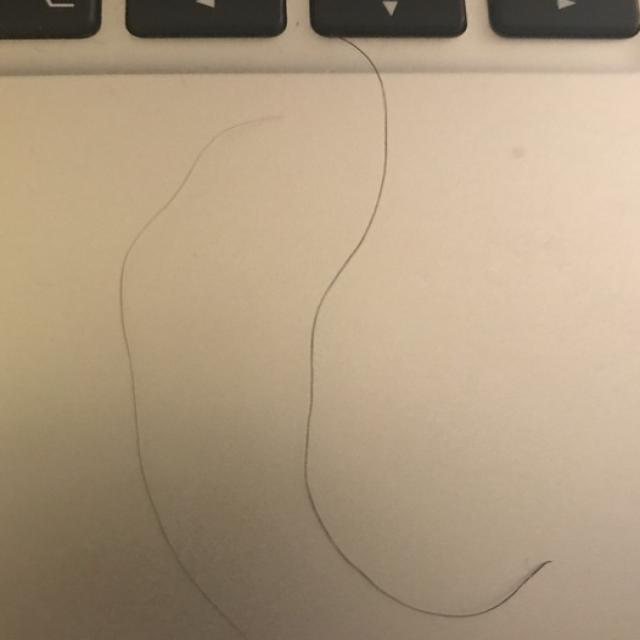hair: (293, 40, 570, 624), (115, 109, 273, 640)
